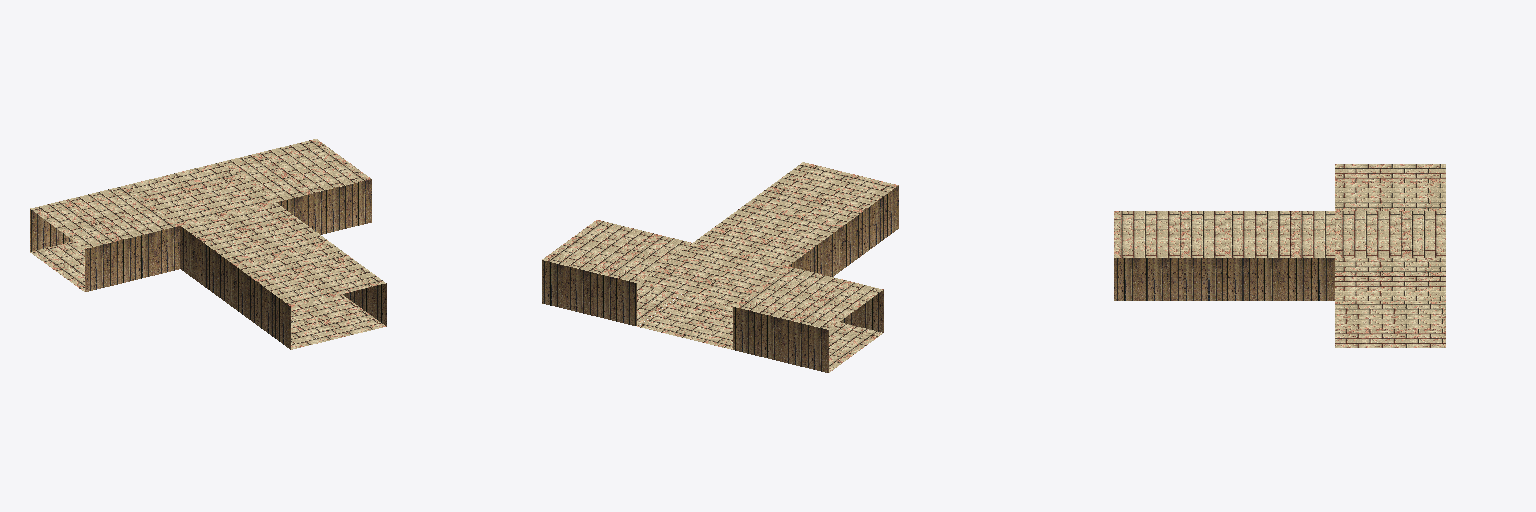
3 views of the same model, side by side, from view 1: azimuth 30°, elevation 25°; view 2: azimuth 150°, elevation 25°; view 3: azimuth 270°, elevation 25° (orthographic).
Parts seen in each view (by area): view 1: mesh01, mesh04, mesh05, mesh02, mesh03; view 2: mesh04, mesh05, mesh03, mesh01, mesh02; view 3: mesh01, mesh05, mesh02, mesh03, mesh04.
Boxes of the visible parts, x1,y1,x2,y2 form: mesh01: [236, 243, 386, 349]; mesh04: [30, 185, 179, 291]; mesh05: [221, 139, 371, 234]; mesh02: [180, 203, 330, 308]; mesh03: [126, 162, 275, 225]; mesh04: [733, 266, 883, 372]; mesh05: [542, 220, 691, 326]; mesh03: [638, 243, 787, 349]; mesh01: [748, 162, 898, 267]; mesh02: [693, 203, 843, 276]; mesh01: [1114, 211, 1224, 300]; mesh05: [1335, 258, 1445, 347]; mesh02: [1225, 211, 1334, 300]; mesh03: [1335, 211, 1445, 257]; mesh04: [1335, 164, 1445, 210].
Size of the model in its own units: 3974 by 576 by 3976.
Materials: 1 (1 with a texture image).